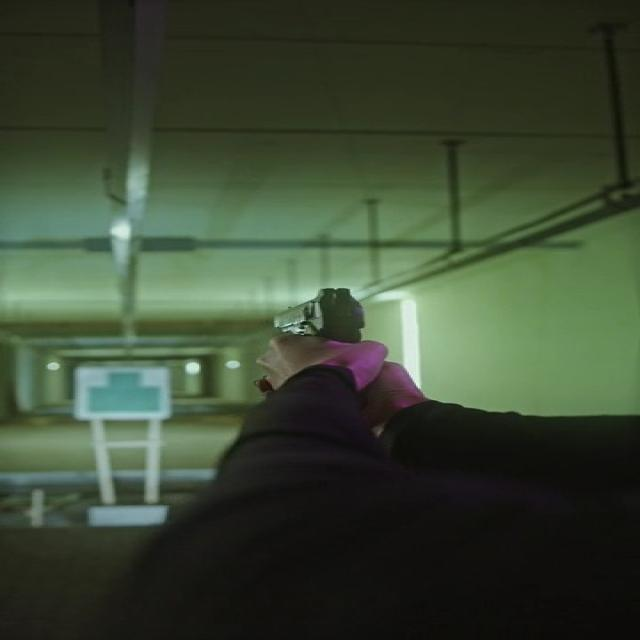Gun_Holder: (221, 279, 456, 432)
